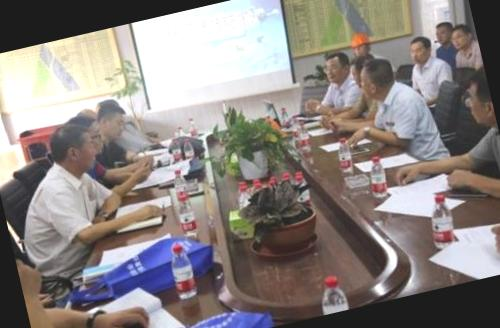no_helmet: (46, 115, 110, 184), (451, 64, 494, 136), (90, 93, 134, 150), (354, 52, 400, 105), (402, 30, 438, 68), (320, 48, 354, 84), (446, 20, 475, 52), (433, 18, 458, 46)
